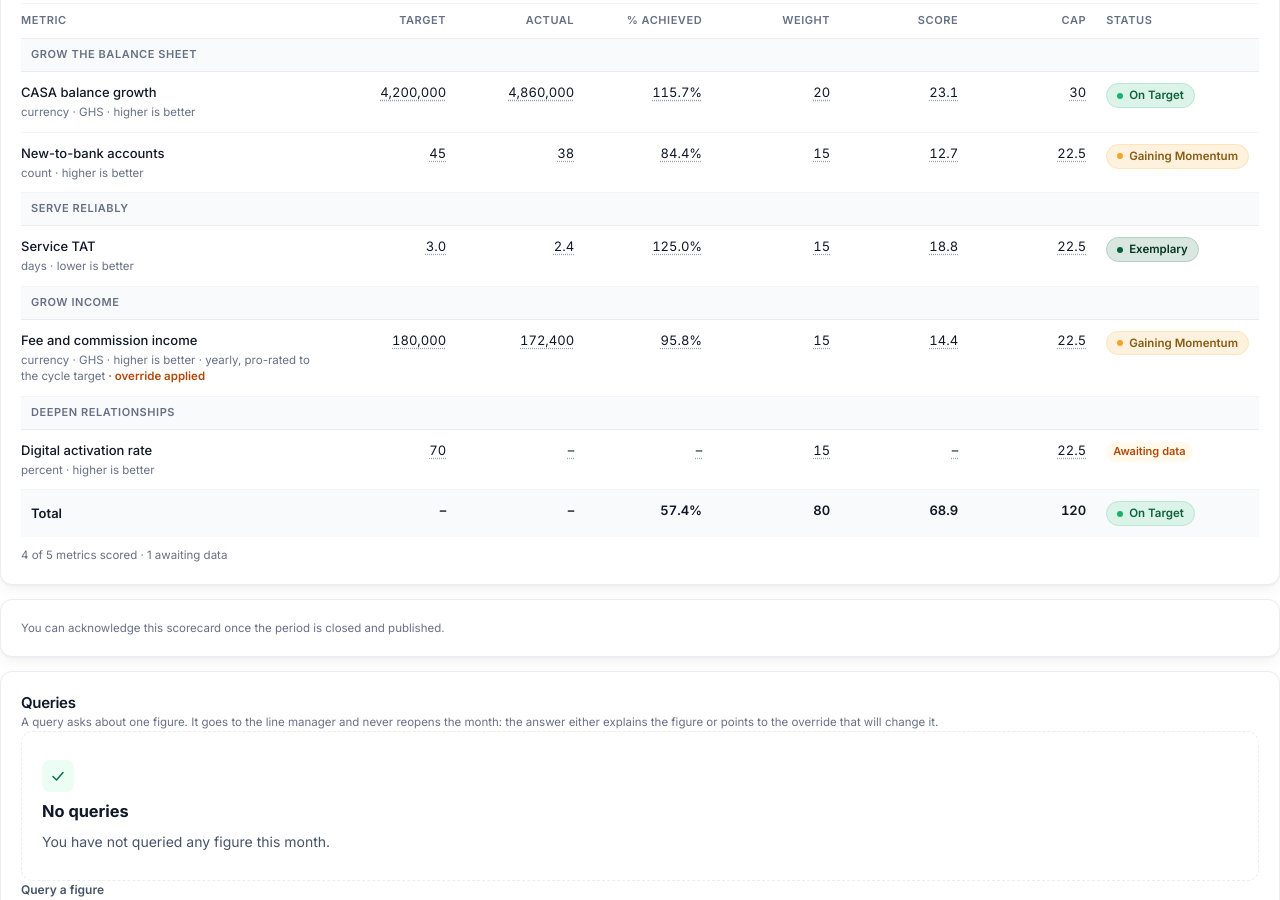
Scenario: scorecard › says awaiting data is left out, not zero
(page scrolled)
What coordinates should you click on to do the following:
click the button named "Actual for Digital activation rate"
I would click on:
 (571, 450)
Its box is [564,439,578,462].
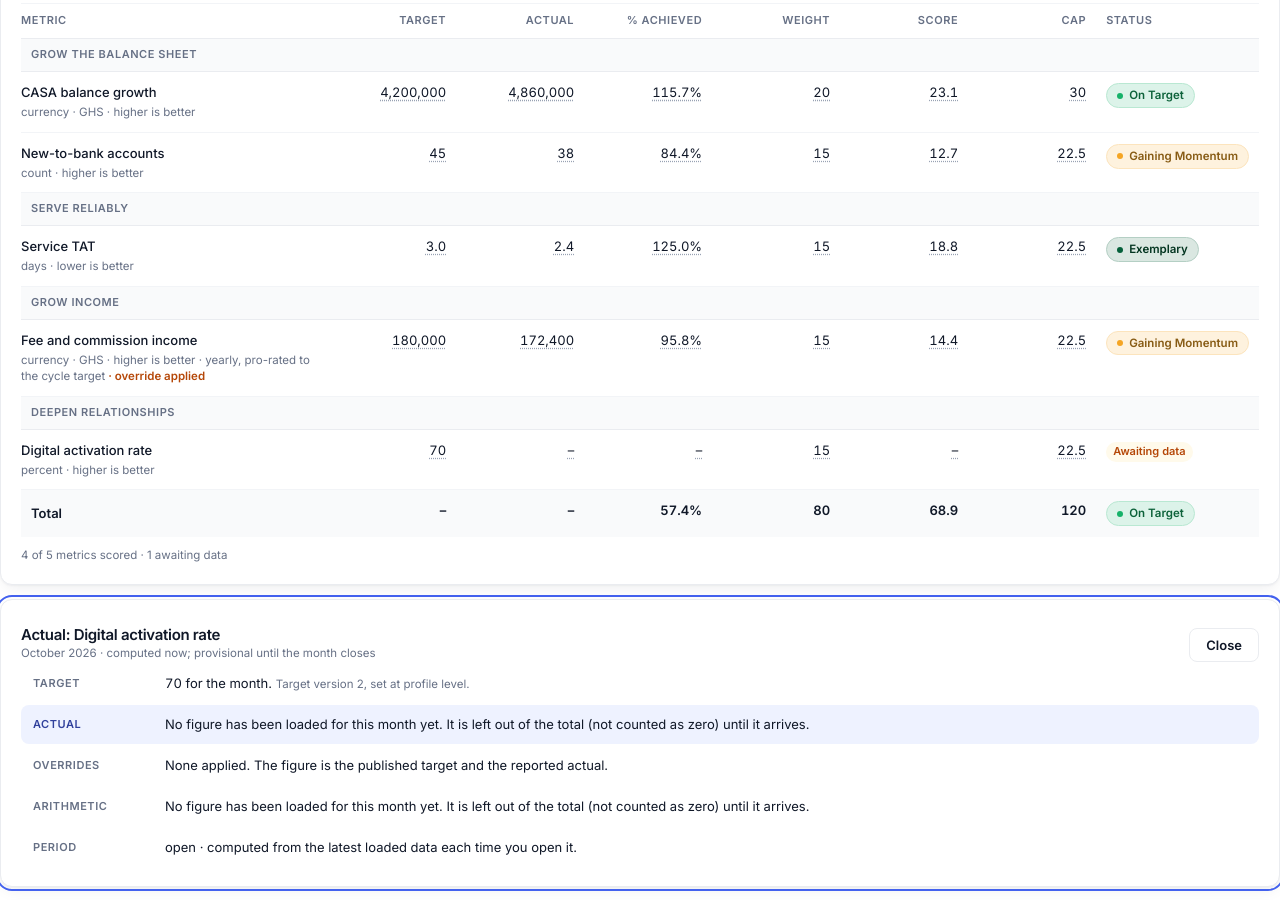
Expected: the element "Digital activation rate" shows "not counted as zero", [165,716,809,732]
